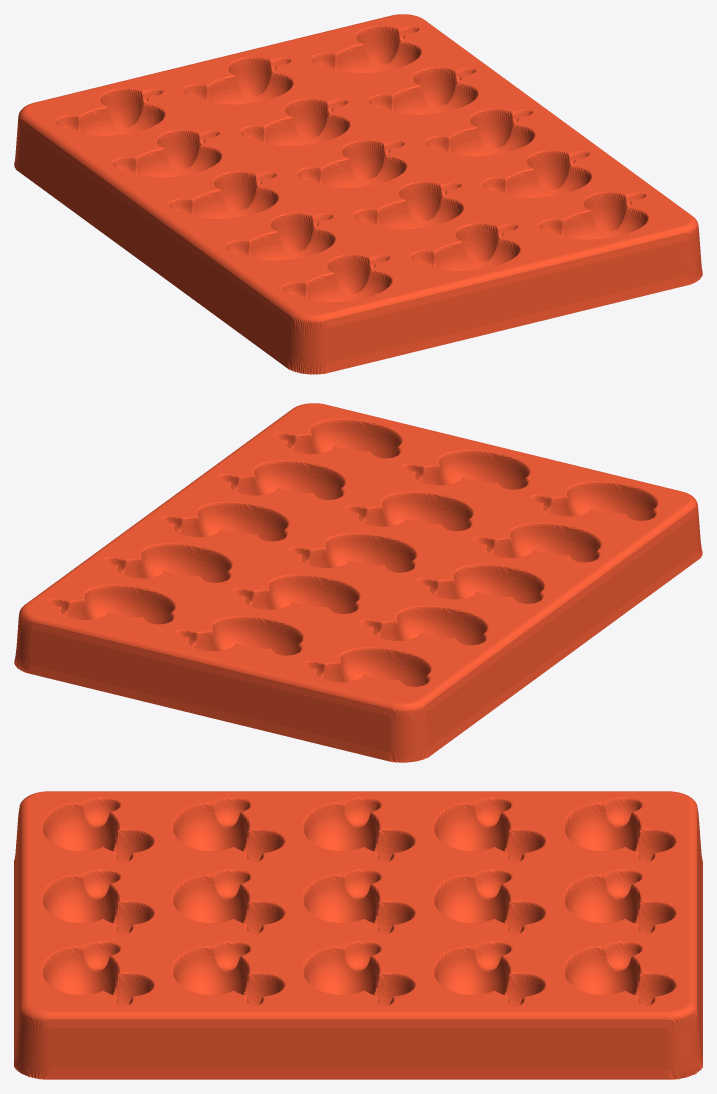
The model's file is mold.glb.
The picture shows the model from 3 angles, top to bottom: view 1: azimuth 30°, elevation 25°; view 2: azimuth 150°, elevation 25°; view 3: azimuth 270°, elevation 25°; orthographic projection. The views are drawn at different scales.
Visible parts, largest first — view 1: geometry_0; view 2: geometry_0; view 3: geometry_0.
Part boxes in pixels (<box>): geometry_0: <box>14,14,702,374</box>; geometry_0: <box>14,403,702,762</box>; geometry_0: <box>14,791,702,1079</box>.
Bounding box in the file's own units: 0.1381 × 0.0175 × 0.174.
